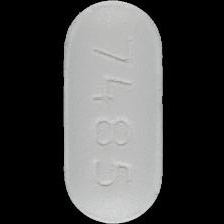0093-7485: (0, 0, 224, 224)
